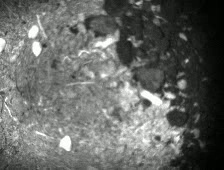corn: (56, 133, 75, 152), (29, 39, 44, 58), (26, 22, 41, 40), (1, 34, 9, 56)
